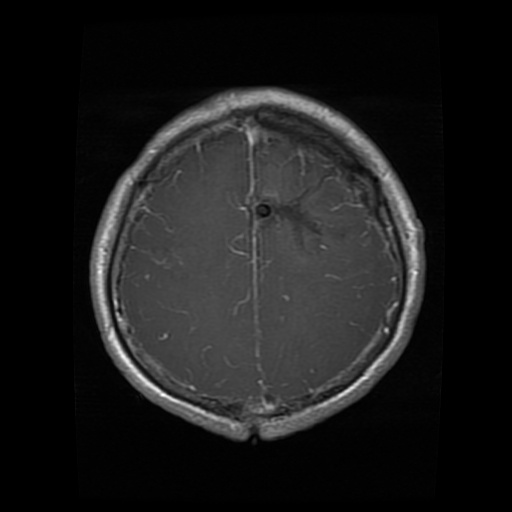glioma: (273, 187, 322, 250)
